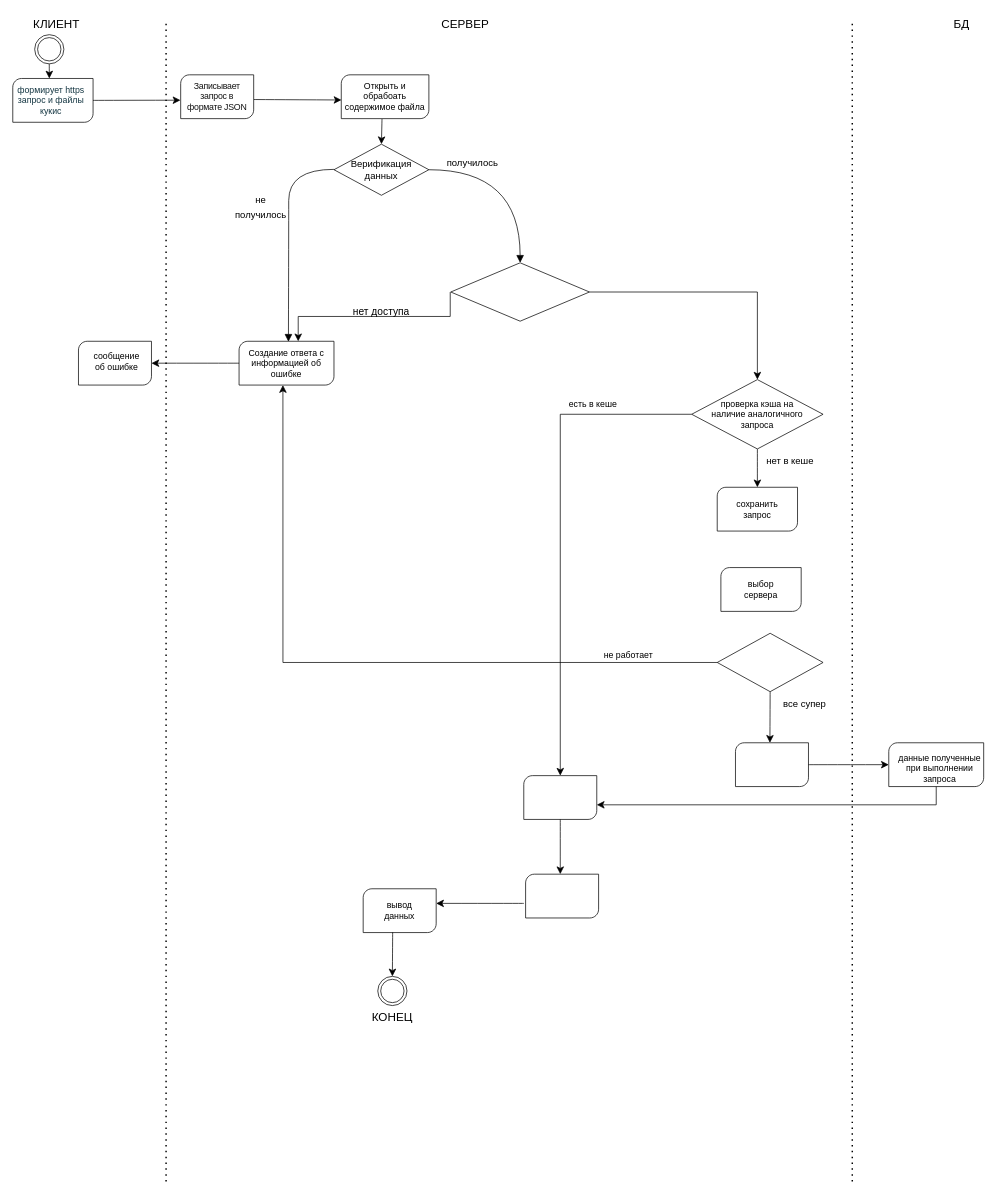
This 996x1195 diagram has some shape labels left out. The centre of each missing label's shape, as x and y in pixels:
подготовка hhtps ответа: pixel 560 797
проверка соединния с бд: pixel 769 662
проверка уровня доступа по полученным файлам cookie: pixel 519 291
составление sql запроса: pixel 771 764
сохранние ответа: pixel 562 895
